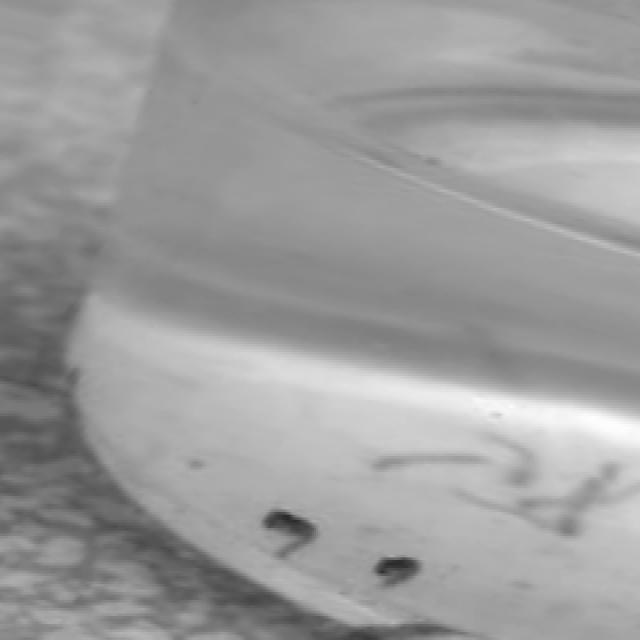larvas: (456, 485, 576, 540), (557, 454, 619, 547), (368, 448, 478, 478), (266, 506, 313, 562), (354, 618, 463, 640), (498, 434, 534, 491), (529, 492, 640, 509), (376, 559, 419, 589)
